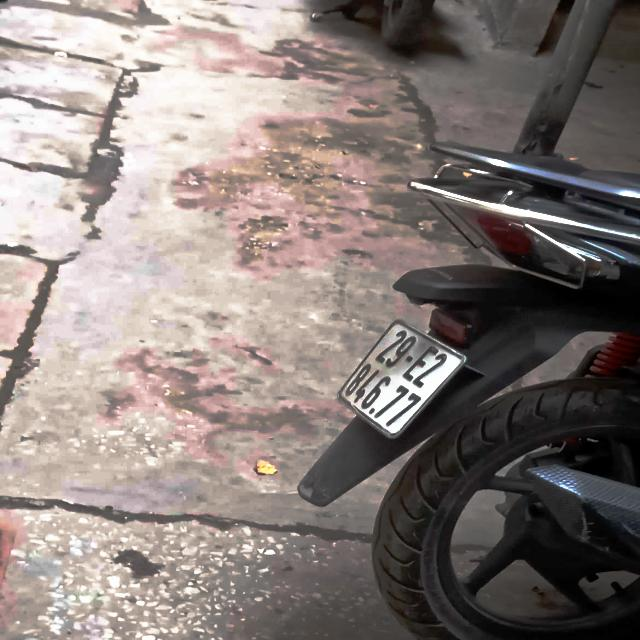license_plate: (327, 311, 478, 447)
